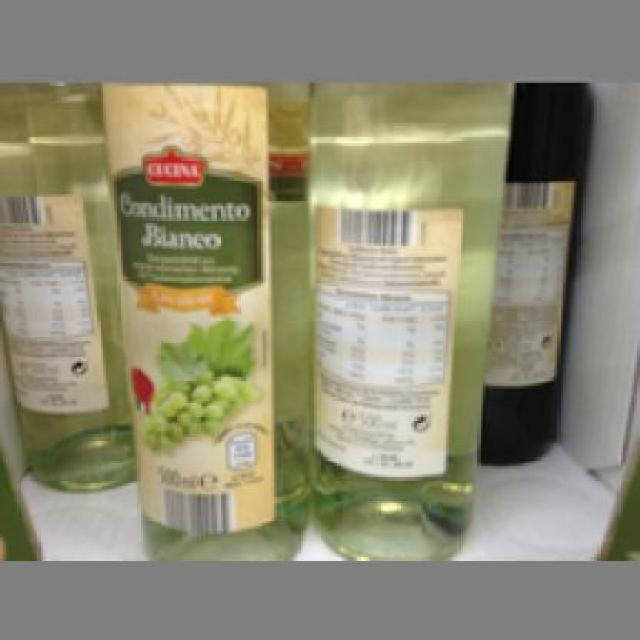Vinegar: (94, 77, 314, 560), (314, 83, 512, 563), (0, 80, 137, 489)
